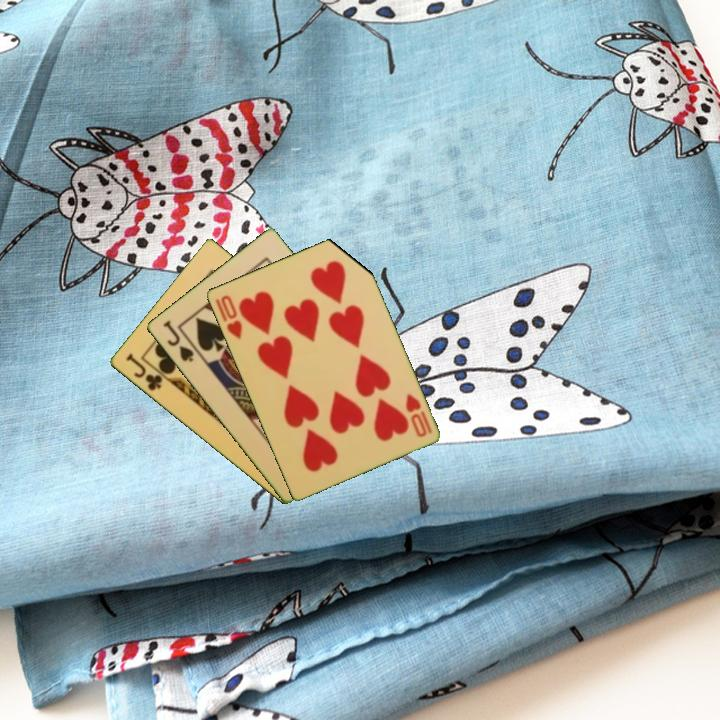10h: (211, 291, 245, 342), (401, 390, 435, 440)
Jc: (122, 350, 165, 394)
Js: (159, 317, 196, 365)
